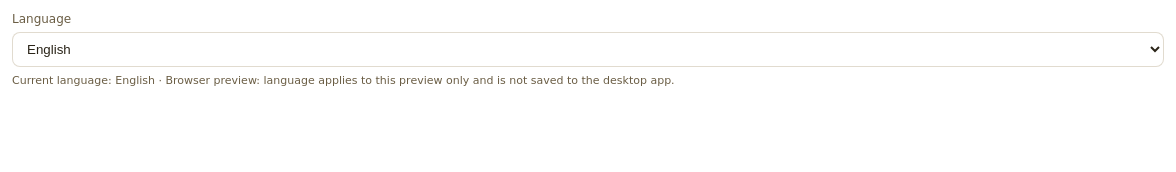
Test: labels browser language changes as preview-only rather than persisted
Select "中文" in the dropdown labelled "Language" at (588, 50), box [12,32,1164,67]
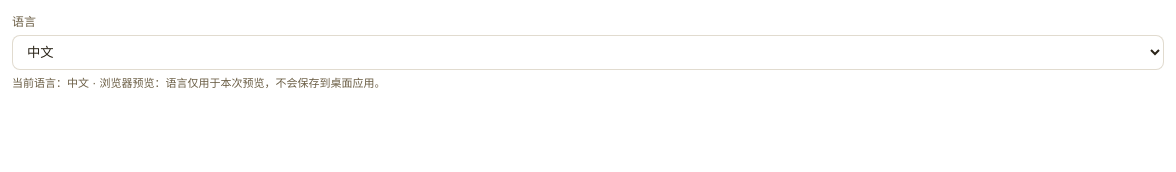
Check: the text "不会保存到桌面应用" is shown, box [100,77,386,90]
